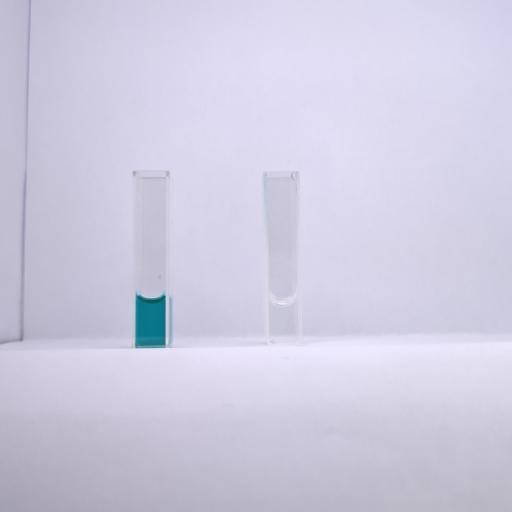cuvette: (130, 168, 172, 352), (261, 170, 304, 348)
liquid: (136, 294, 166, 346), (270, 296, 297, 341)
